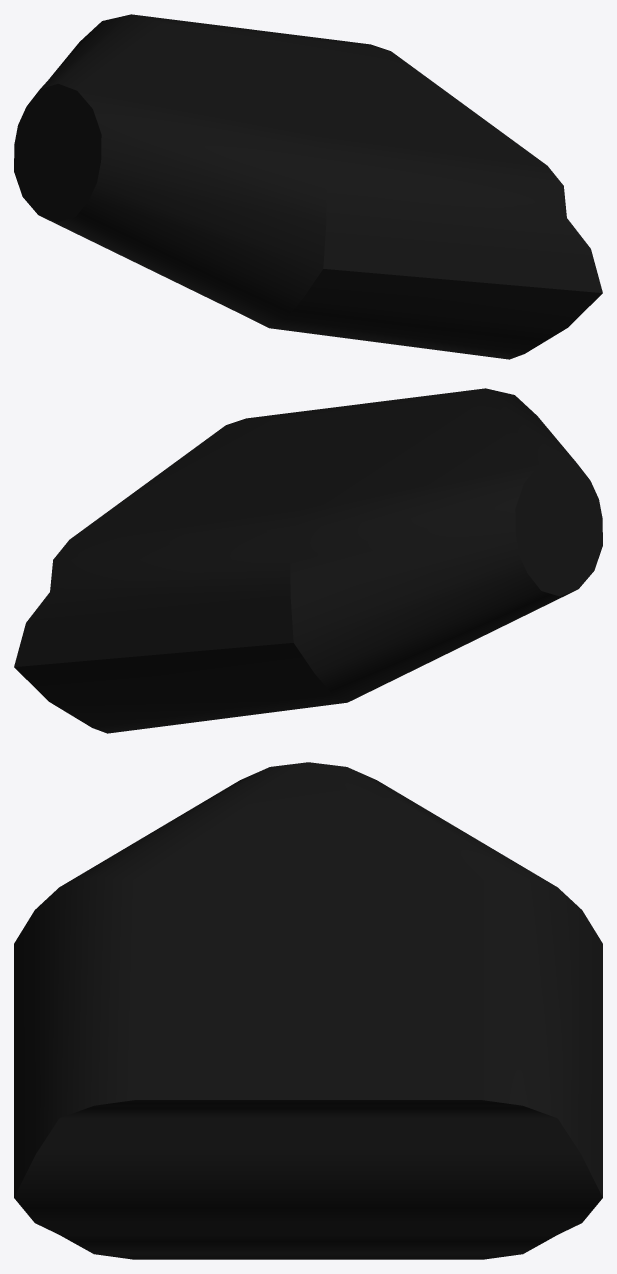
File: light.fbx
The picture shows the model from 3 angles, top to bottom: view 1: azimuth 30°, elevation 25°; view 2: azimuth 150°, elevation 25°; view 3: azimuth 270°, elevation 25°; orthographic projection. The views are drawn at different scales.
Visible parts, largest first — view 1: light; view 2: light; view 3: light.
Part boxes in pixels (x1,y1,x2,y2): light: (14, 14, 602, 359); light: (14, 388, 602, 733); light: (14, 762, 602, 1259).
Size of the model in its own units: 0.0624 by 0.0394 by 0.0664.
Materials: 1 (1 with a texture image).
